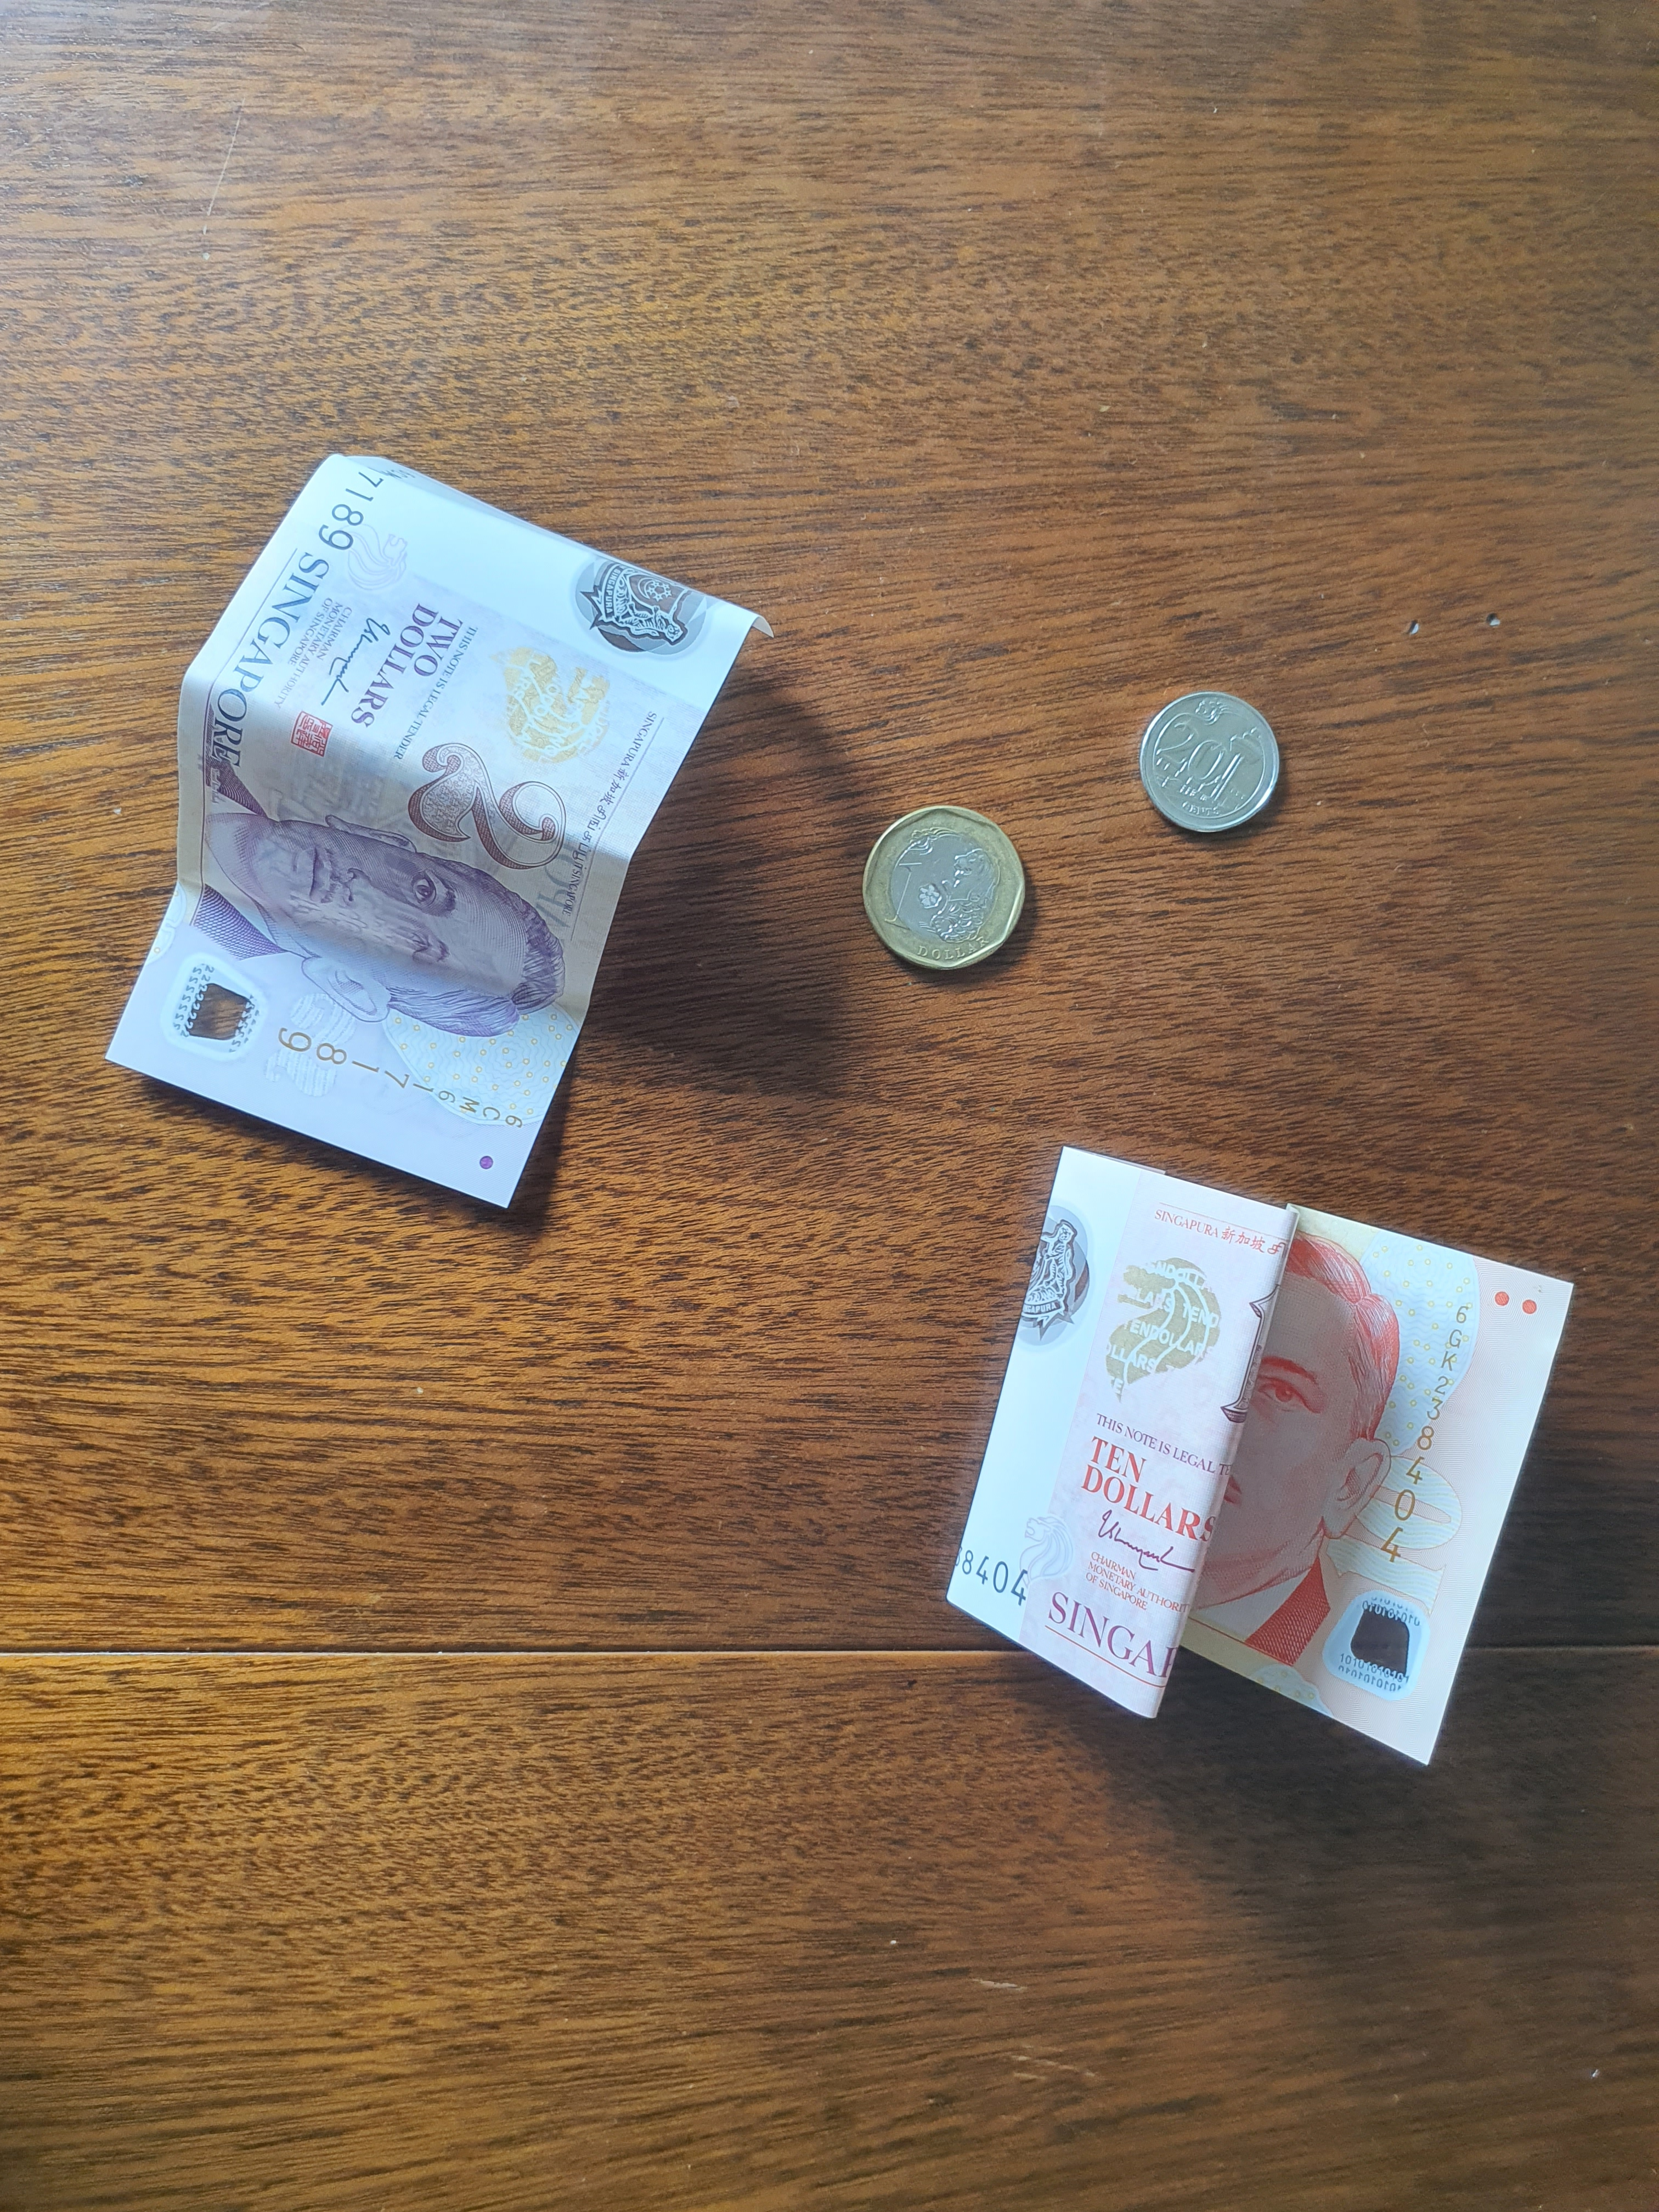$1: (861, 803, 1028, 974)
$10: (948, 1144, 1575, 1770)
$2: (103, 453, 775, 1207)
20c: (1138, 691, 1281, 834)
